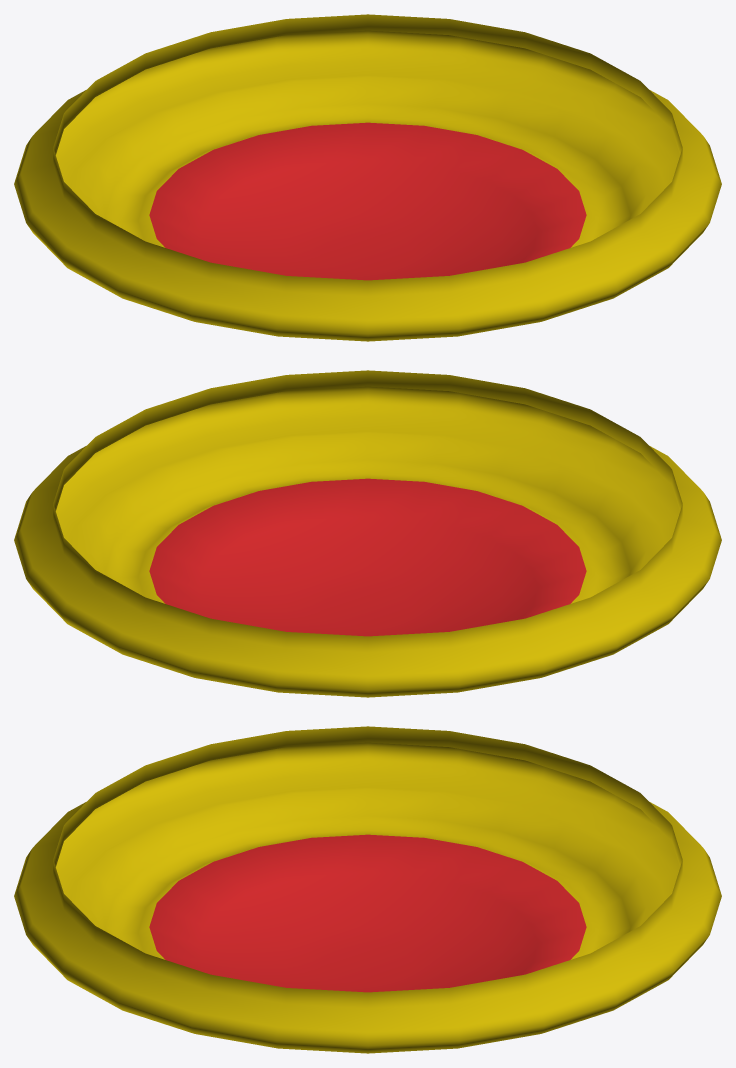
The model's file is MOD_LAM_Ceiling_lamp_03.fbx.
The picture shows the model from 3 angles, top to bottom: view 1: azimuth 30°, elevation 25°; view 2: azimuth 150°, elevation 25°; view 3: azimuth 270°, elevation 25°; orthographic projection.
Parts seen in each view (by area): view 1: HSHP_MOD_Ceiling_lamp_03; view 2: HSHP_MOD_Ceiling_lamp_03; view 3: HSHP_MOD_Ceiling_lamp_03.
Boxes of the visible parts, left/top/right/bottom form: HSHP_MOD_Ceiling_lamp_03: left=14, top=14, right=721, bottom=341; HSHP_MOD_Ceiling_lamp_03: left=14, top=370, right=721, bottom=697; HSHP_MOD_Ceiling_lamp_03: left=14, top=726, right=721, bottom=1053.
Bounding box in the file's own units: 0.902 × 0.1487 × 0.902.
